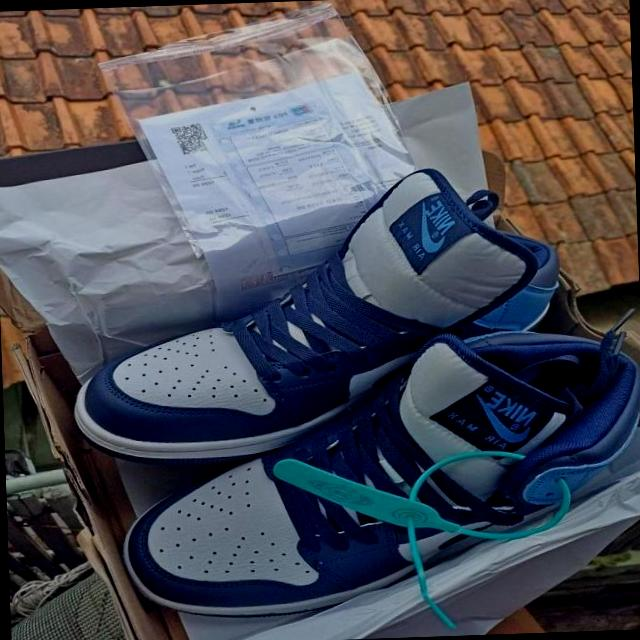nike_fake_jordan: (112, 324, 640, 625), (64, 161, 570, 468)
